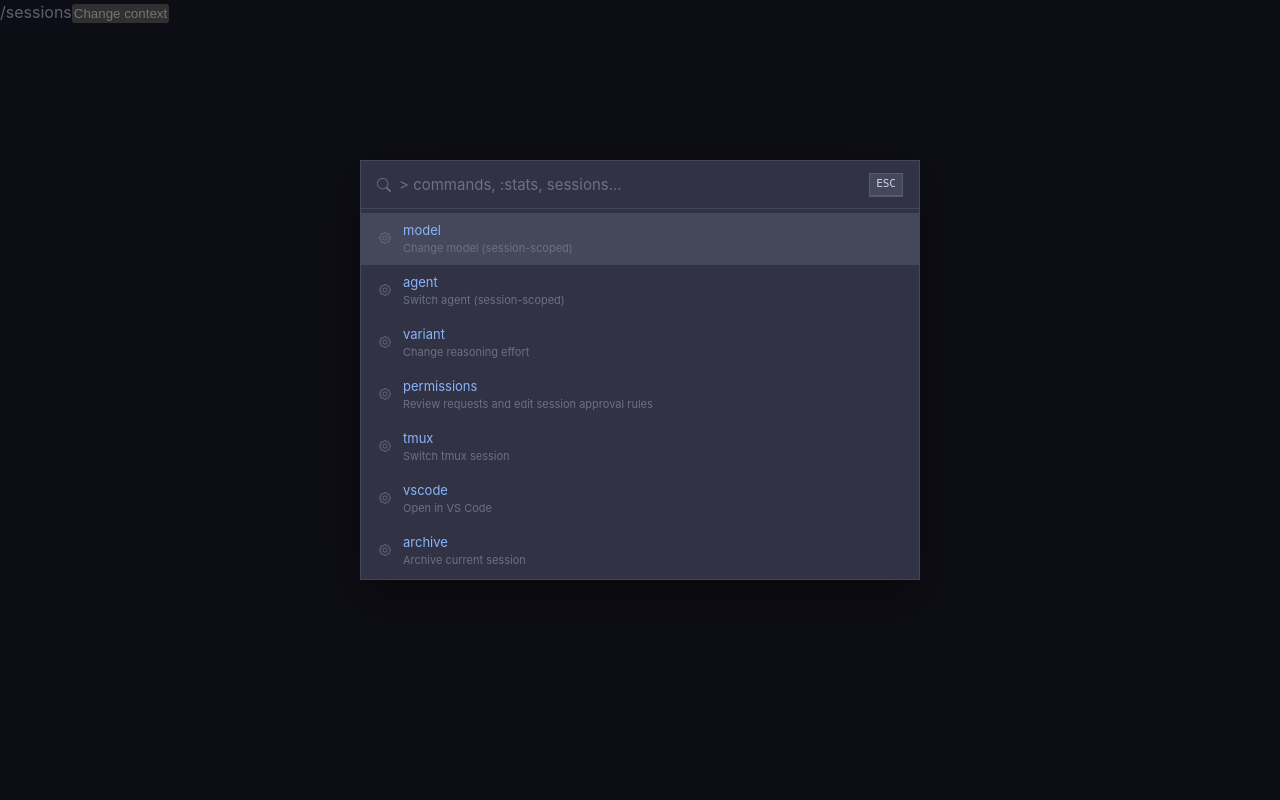
Test: plugin command contributions › handles HTTP 403 without retrying
Type ">Create report" into the dropdown at coordinates (630, 184), box [399,175,861,194]
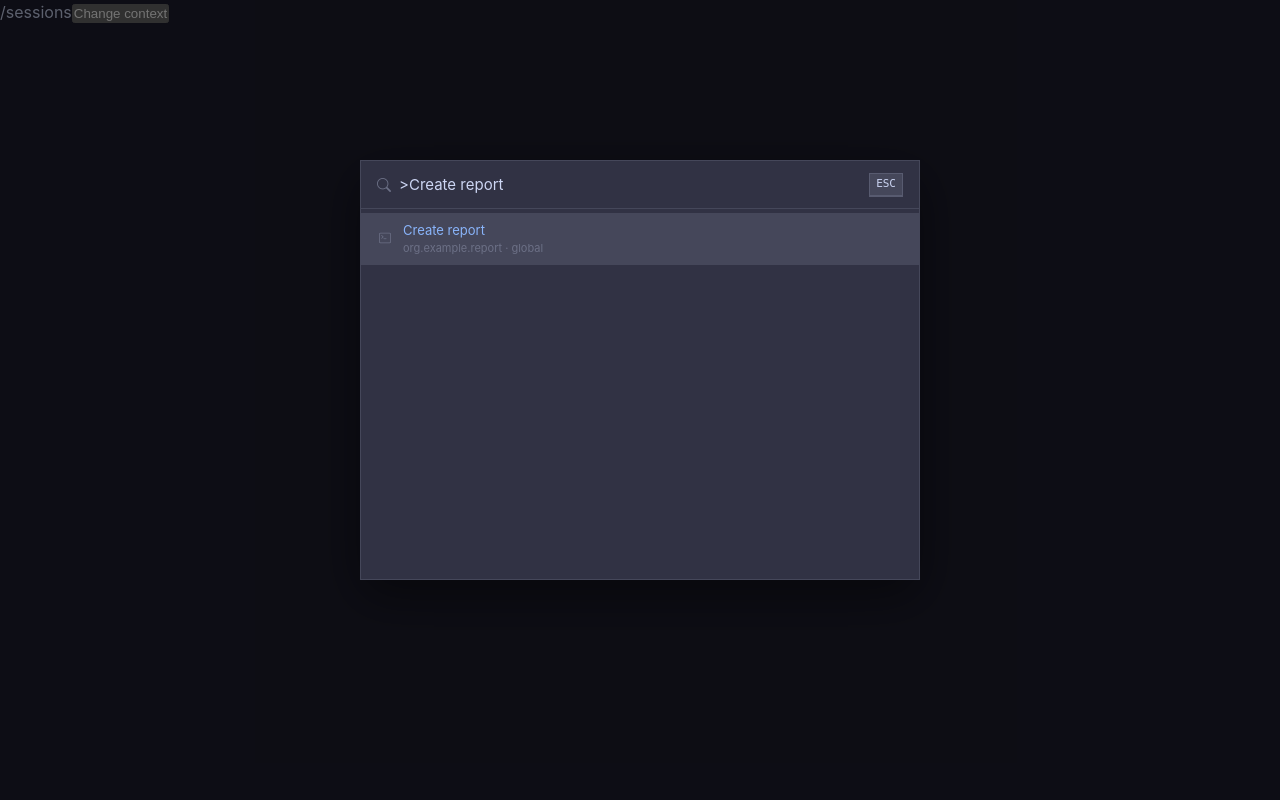
Now the option "Create report org.example.report · global" is shown, box [361,212,919,264]
Press Enter in the dropdown, box [399,175,861,194]
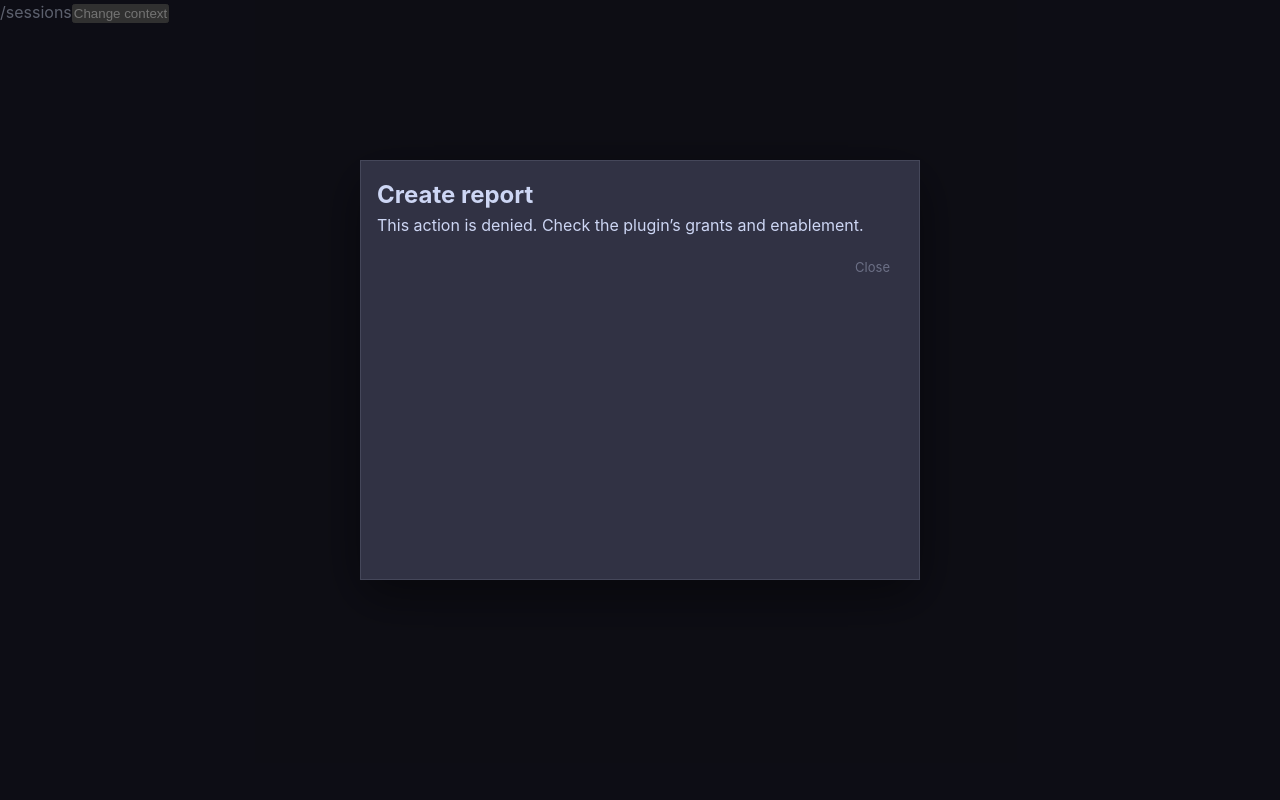
Now the message shows "denied", box [377,215,864,235]
